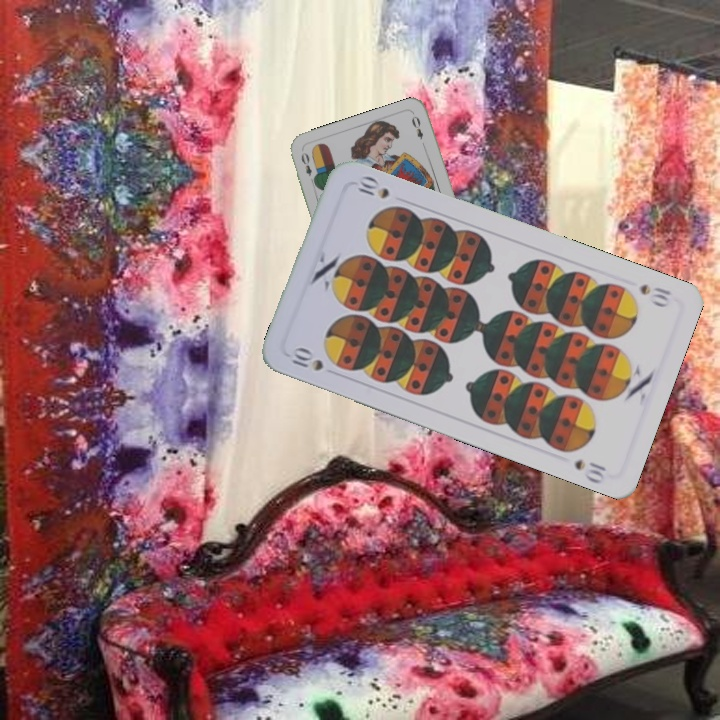EO: (297, 148, 318, 187)
S10: (287, 343, 326, 374), (635, 280, 674, 310)
